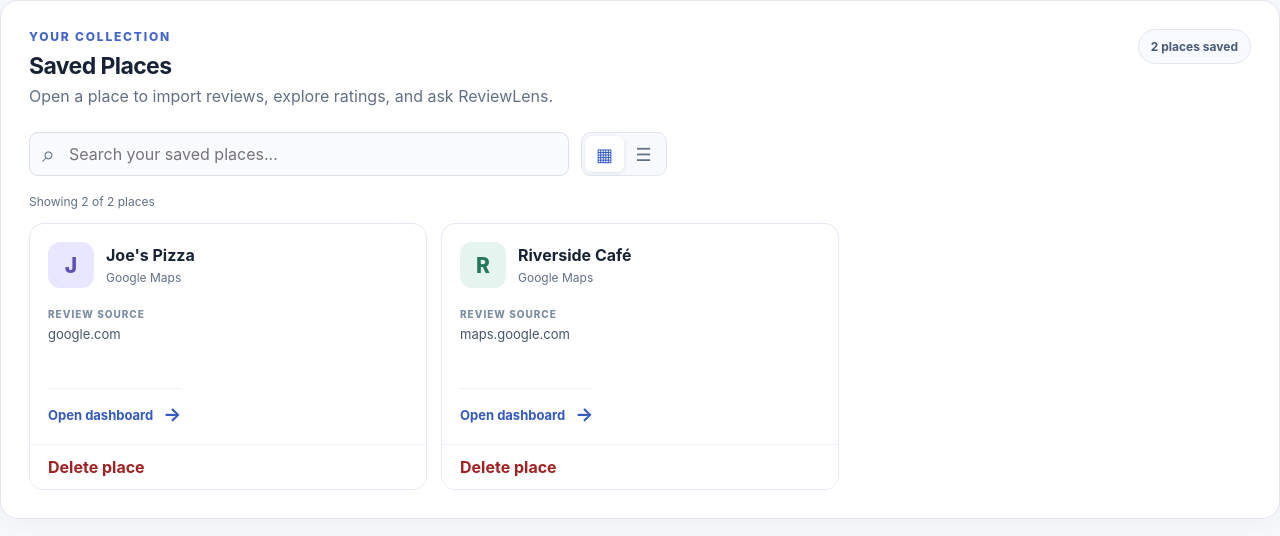
Test: SavedPlaces › filters places by name and allows clearing a search with no results
Type "riverside" into the search field named "Search saved places" at (299, 154), box [29, 132, 569, 176]
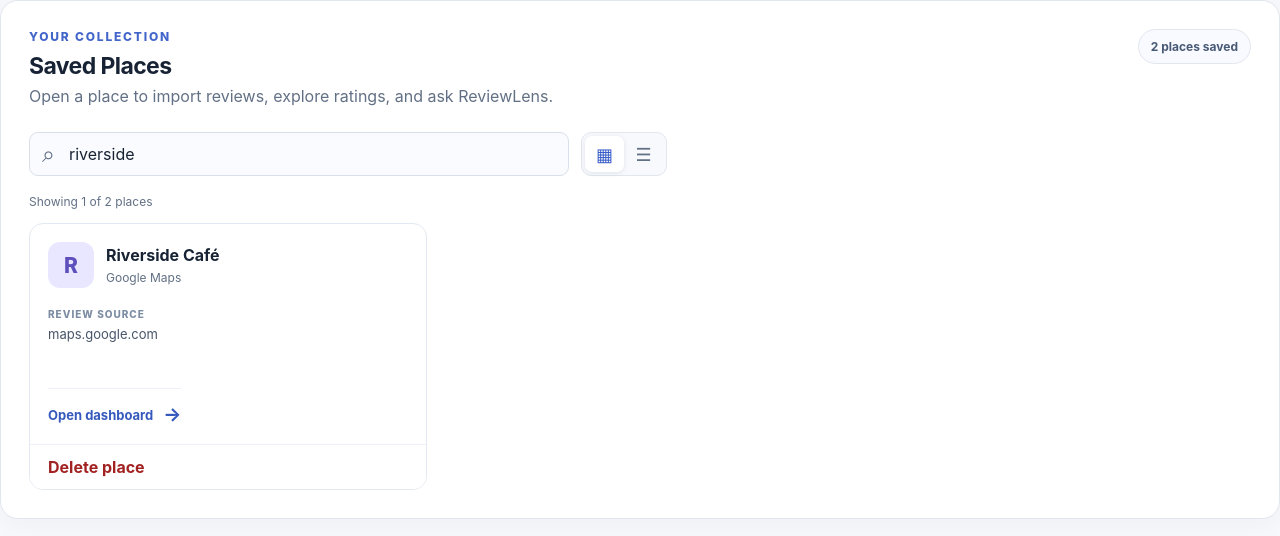
Expected: the text "Riverside Café" is shown, [106, 245, 220, 266]
Now the button "Joe's Pizza" is gone
Replace the text in the search field named "Search saved places" with "not-a-place" at (299, 154), box [29, 132, 569, 176]
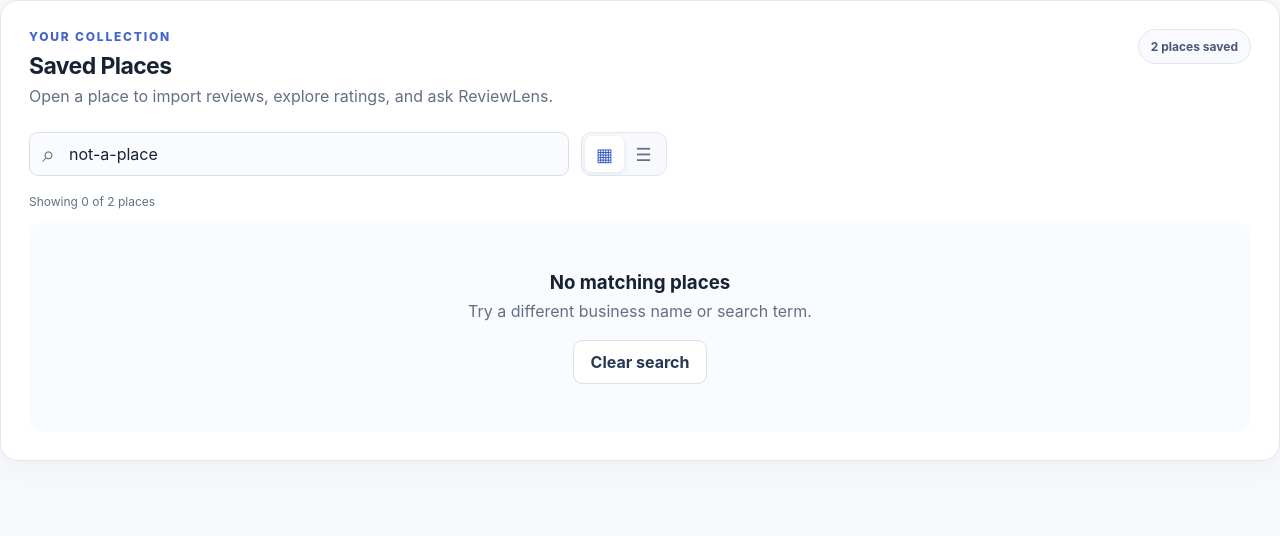
Now the heading "No matching places" is shown, box [550, 271, 730, 294]
Click the button "Clear search" at (640, 362), box [572, 340, 707, 384]
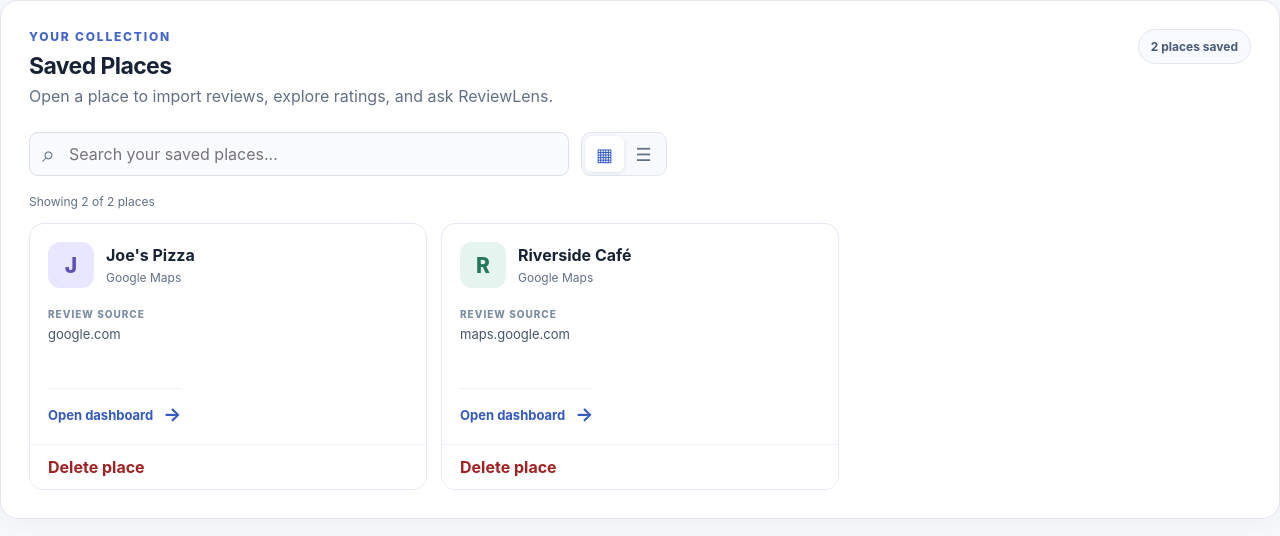
Now the text "Joe's Pizza" is shown, box [106, 245, 195, 266]
